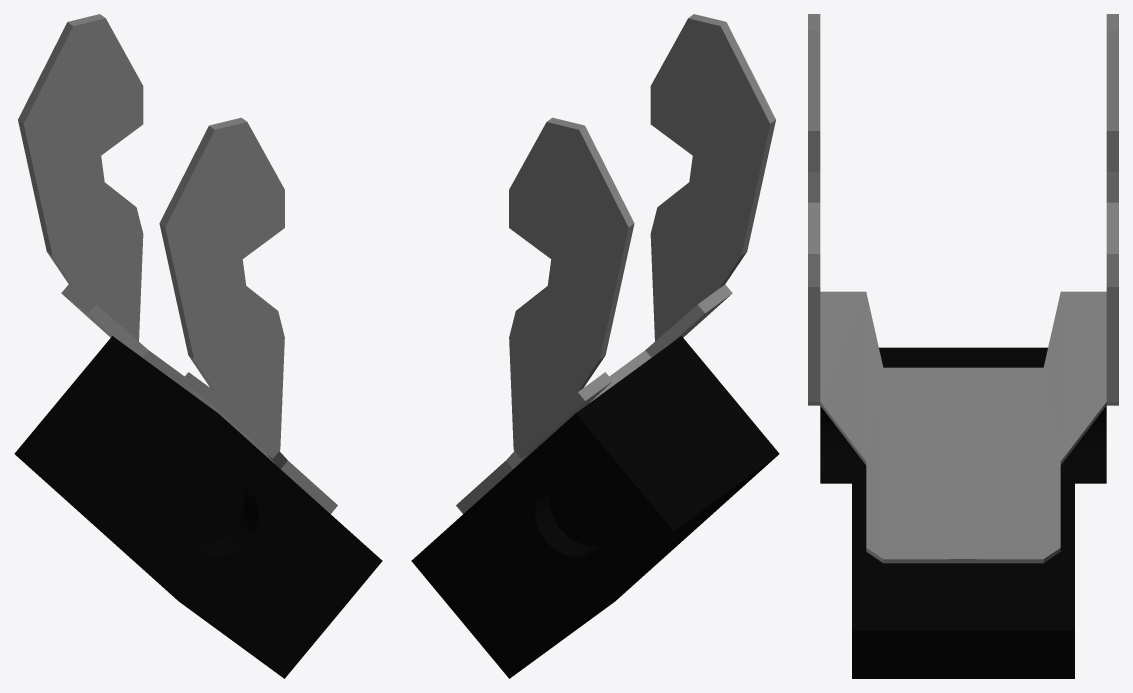
Rendered from leg_kneemot.dae.
3 views of the same model, side by side, from view 1: azimuth 30°, elevation 25°; view 2: azimuth 150°, elevation 25°; view 3: azimuth 270°, elevation 25° (orthographic). The views are drawn at different scales.
Visible parts, largest first — view 1: leg_kneemot; view 2: leg_kneemot; view 3: leg_kneemot.
Part boxes in pixels (x1,y1,x2,y2): leg_kneemot: (14, 14, 382, 678); leg_kneemot: (411, 14, 779, 678); leg_kneemot: (808, 14, 1118, 678).
Bounding box in the file's own units: 0.0387 × 0.0376 × 0.0825.
1 material, 1 textured.
